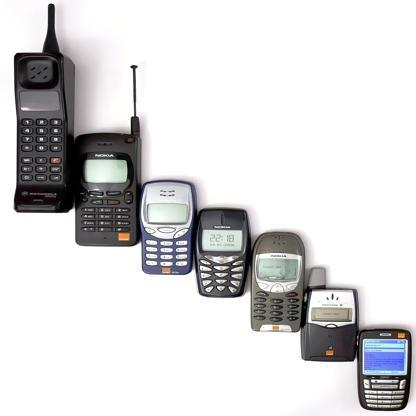not trash: (10, 3, 72, 212), (76, 65, 140, 245), (251, 230, 305, 331), (194, 206, 250, 298), (303, 264, 356, 360), (142, 180, 194, 273), (357, 325, 412, 408)
